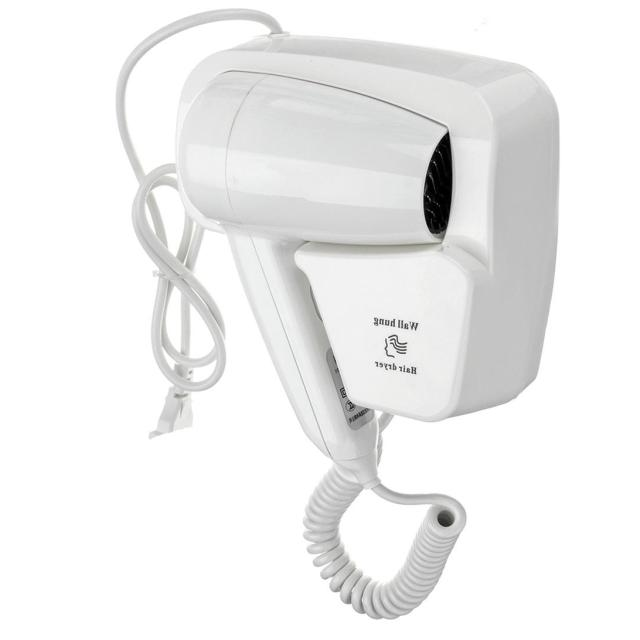dryer: (75, 0, 574, 640)
